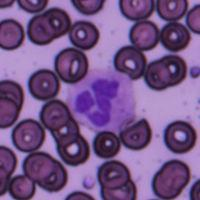N: (66, 68, 136, 132)
